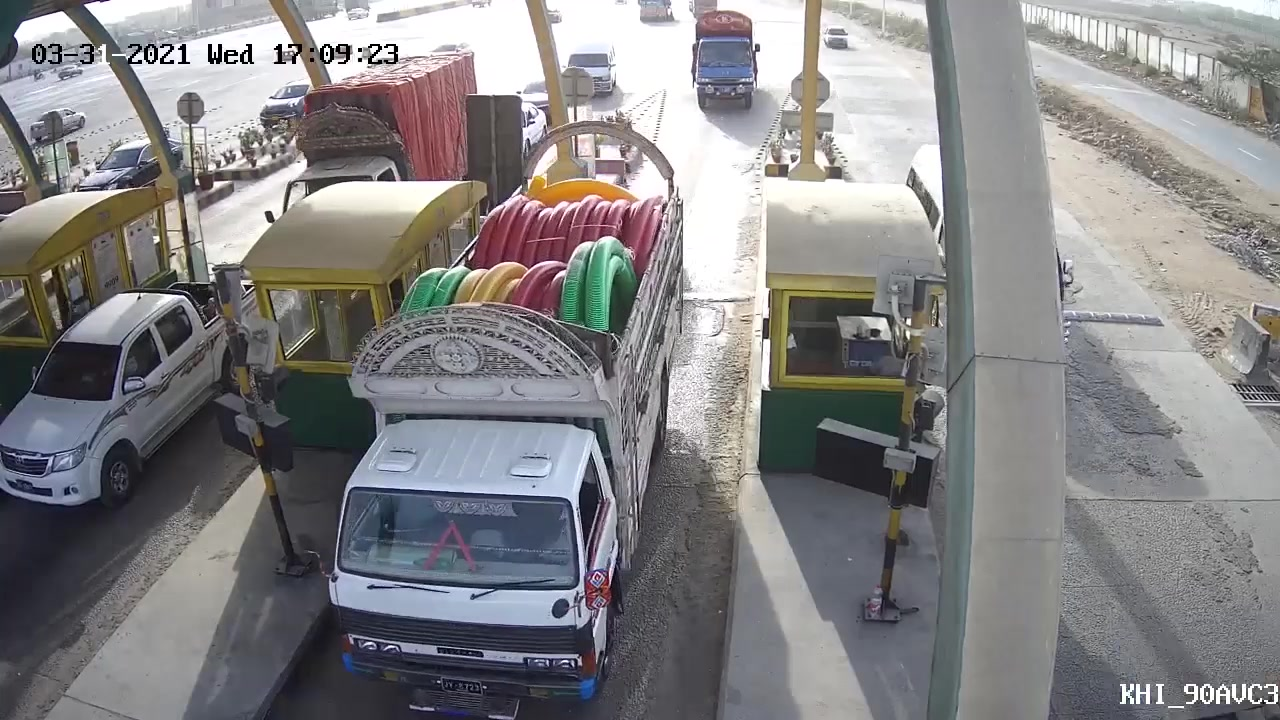F5: (315, 116, 700, 717)
